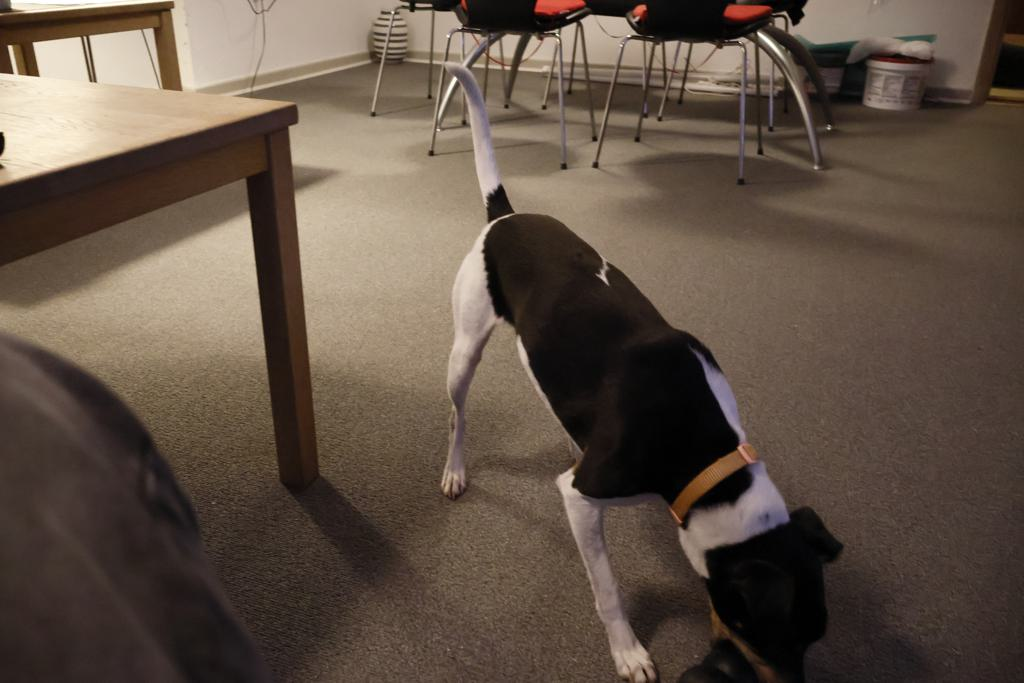Dog: (420, 43, 851, 683)
Humanoid: (0, 326, 277, 683)
